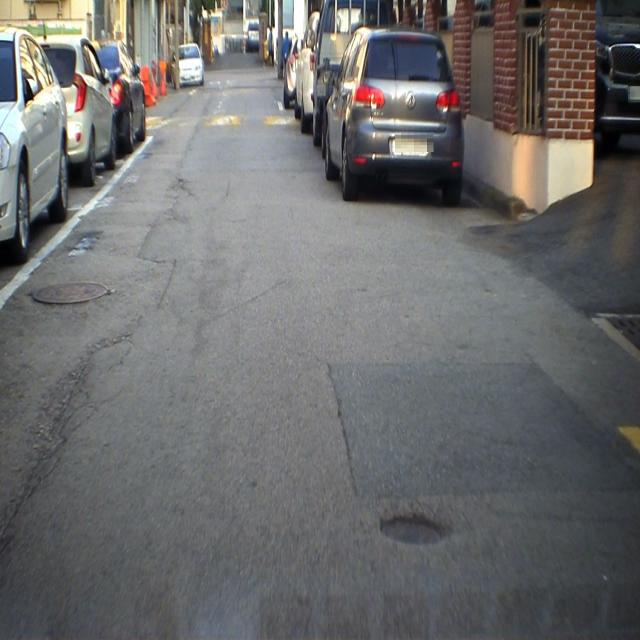Pothole: (370, 504, 455, 564)
